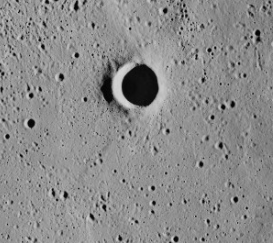crater: (83, 36, 195, 174)
